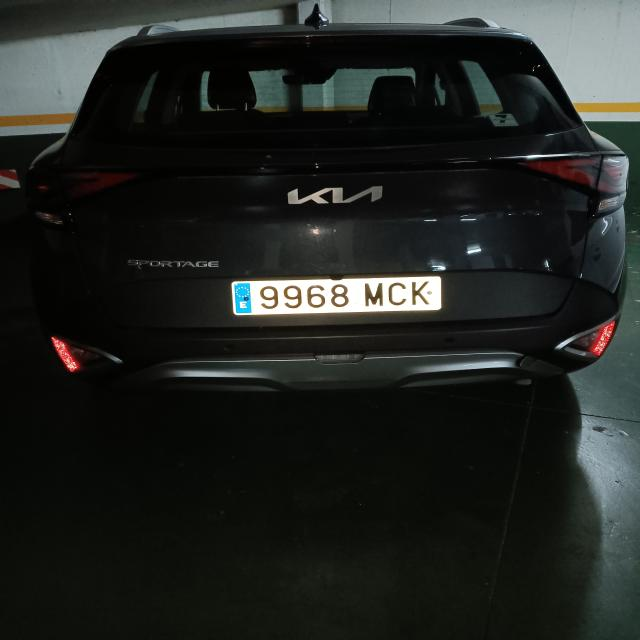license_plate-34Td: (231, 275, 442, 316)
